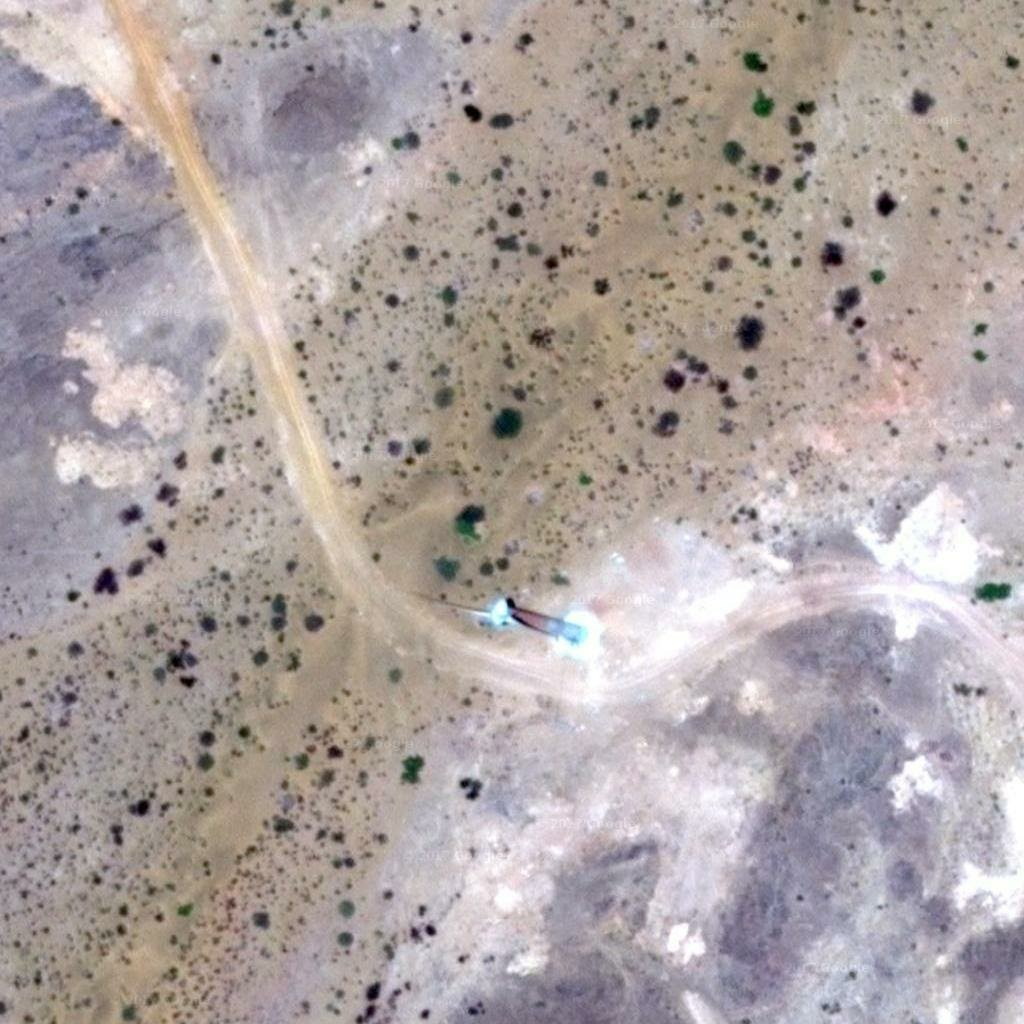Windmill: (401, 567, 604, 657)
